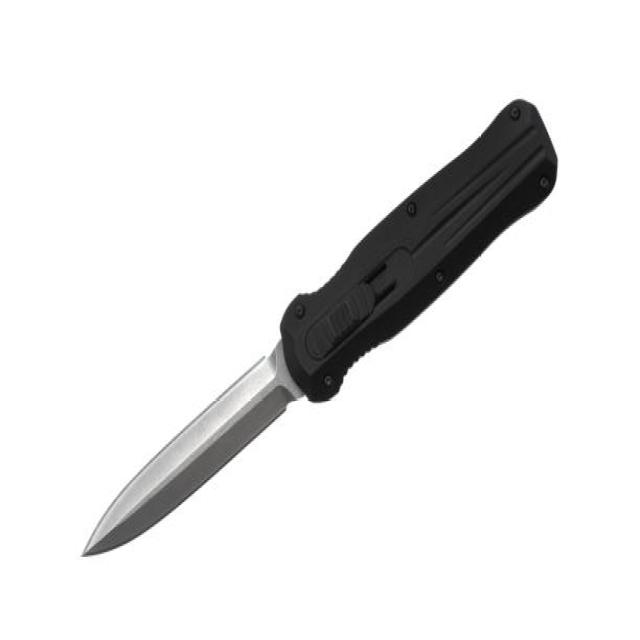knife: (72, 92, 571, 571)
